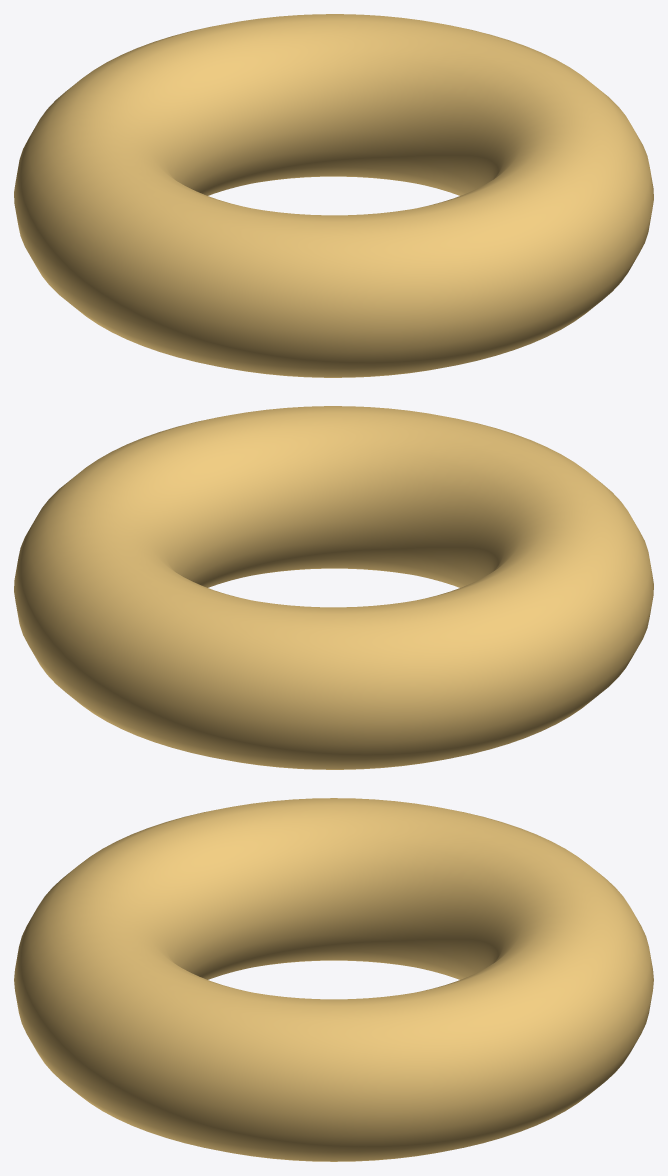
File: spacer-05-gold.glb
3 renders of one model, top to bottom at view 1: azimuth 30°, elevation 25°; view 2: azimuth 150°, elevation 25°; view 3: azimuth 270°, elevation 25°, orthographic.
Parts seen in each view (by area): view 1: Spacer with through bore.008; view 2: Spacer with through bore.008; view 3: Spacer with through bore.008.
Part boxes in pixels (bbox=[...]): Spacer with through bore.008: bbox=[14, 14, 653, 377]; Spacer with through bore.008: bbox=[14, 406, 653, 769]; Spacer with through bore.008: bbox=[14, 798, 653, 1161].
Bounding box in the file's own units: 0.0043 × 0.0011 × 0.0043.
